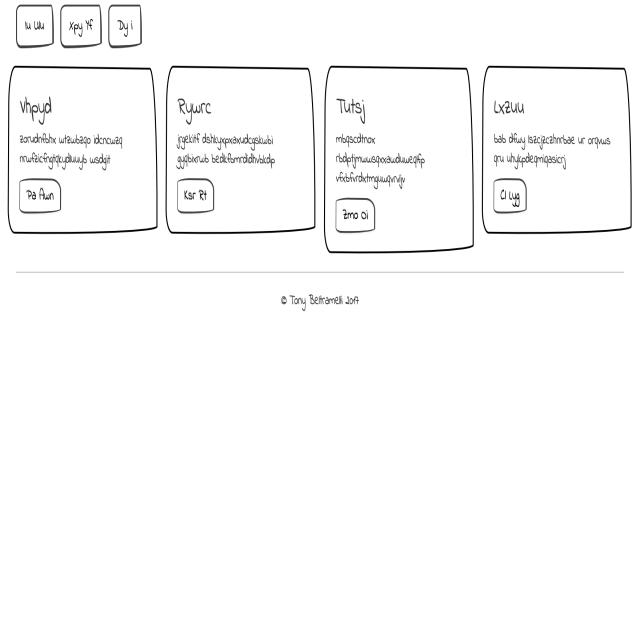Button: (14, 175, 71, 216), (335, 198, 374, 236), (177, 180, 215, 214), (497, 180, 524, 208)
Card: (328, 64, 471, 251), (12, 68, 160, 239), (169, 62, 316, 234), (484, 64, 630, 234)
Footer: (0, 244, 640, 640)
Heading 6: (174, 87, 223, 126), (16, 92, 69, 128), (333, 82, 368, 120), (493, 90, 532, 120)
Navigation Bar: (11, 6, 152, 54)
Paragraph: (334, 124, 418, 197), (21, 127, 130, 176), (492, 133, 624, 171), (175, 130, 281, 173)
